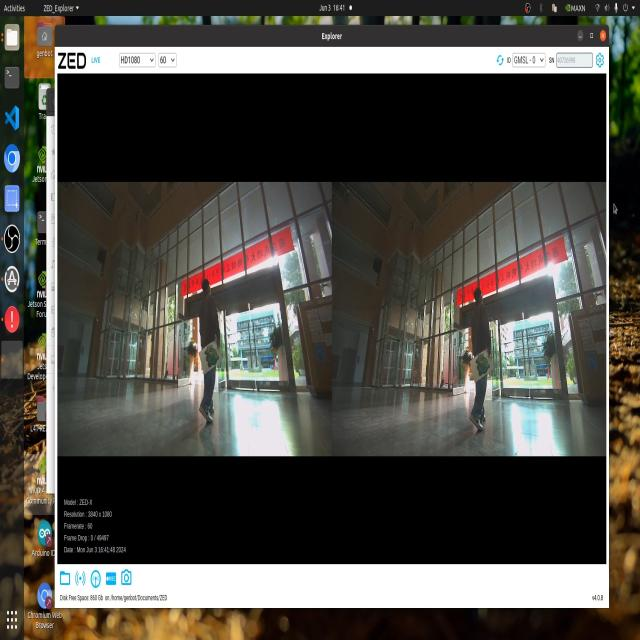green: (474, 350, 500, 385), (199, 336, 219, 372)
